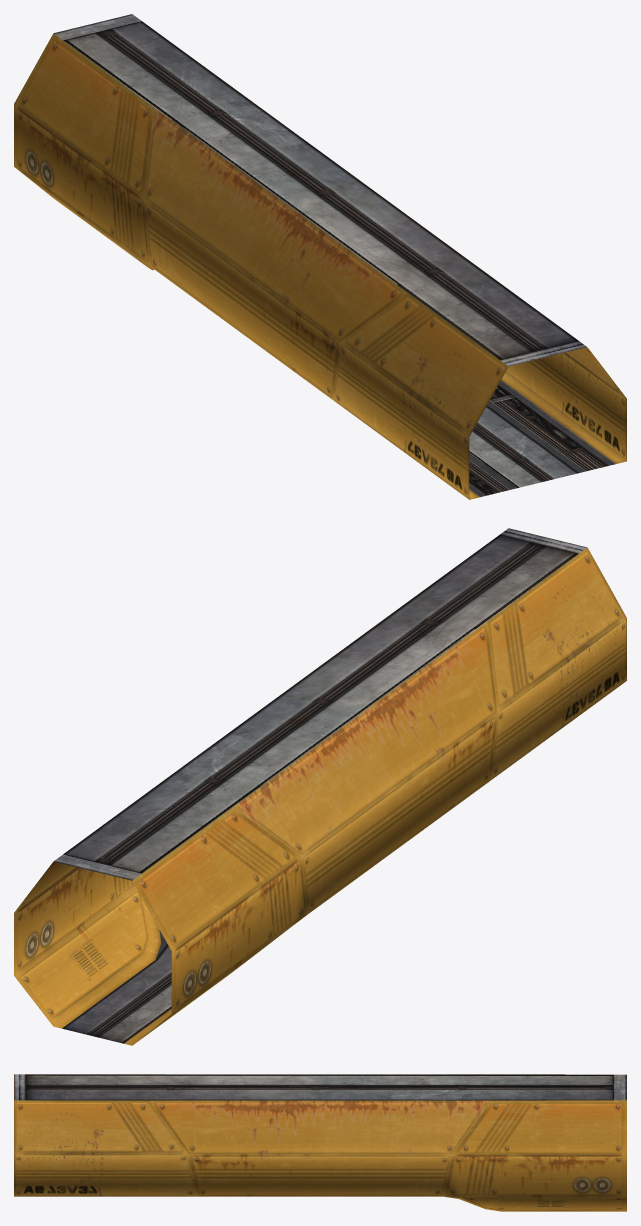
The model's file is ARC_Girder_LaterallB.FBX.
3 renders of one model, top to bottom at view 1: azimuth 30°, elevation 25°; view 2: azimuth 150°, elevation 25°; view 3: azimuth 270°, elevation 25°, orthographic. The views are drawn at different scales.
Visible parts, largest first — view 1: ARC_Girder_LaterallB; view 2: ARC_Girder_LaterallB; view 3: ARC_Girder_LaterallB.
Boxes of the visible parts, left/top/right/bottom form: ARC_Girder_LaterallB: left=14, top=14, right=626, bottom=499; ARC_Girder_LaterallB: left=14, top=528, right=626, bottom=1045; ARC_Girder_LaterallB: left=14, top=1074, right=626, bottom=1211.
Bounding box in the file's own units: 100 × 100 × 500.
1 material, 1 textured.
